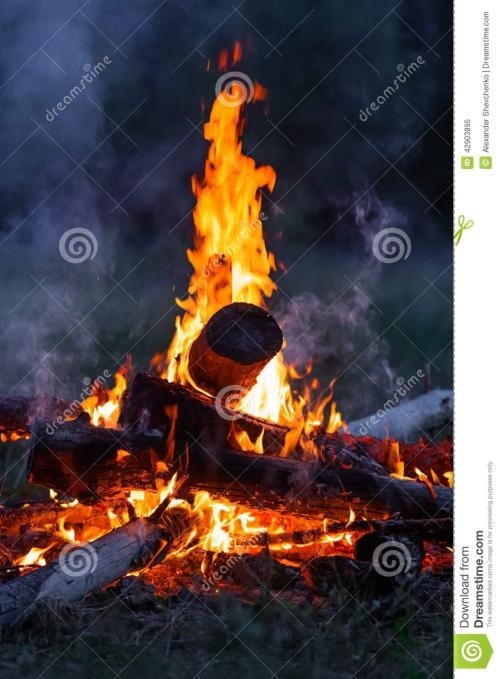fire: (154, 45, 325, 468)
